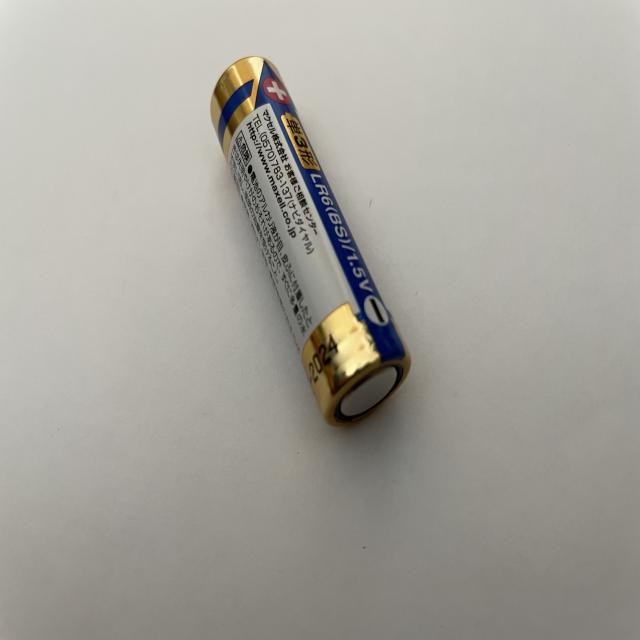hazardous waste: (210, 54, 413, 432)
